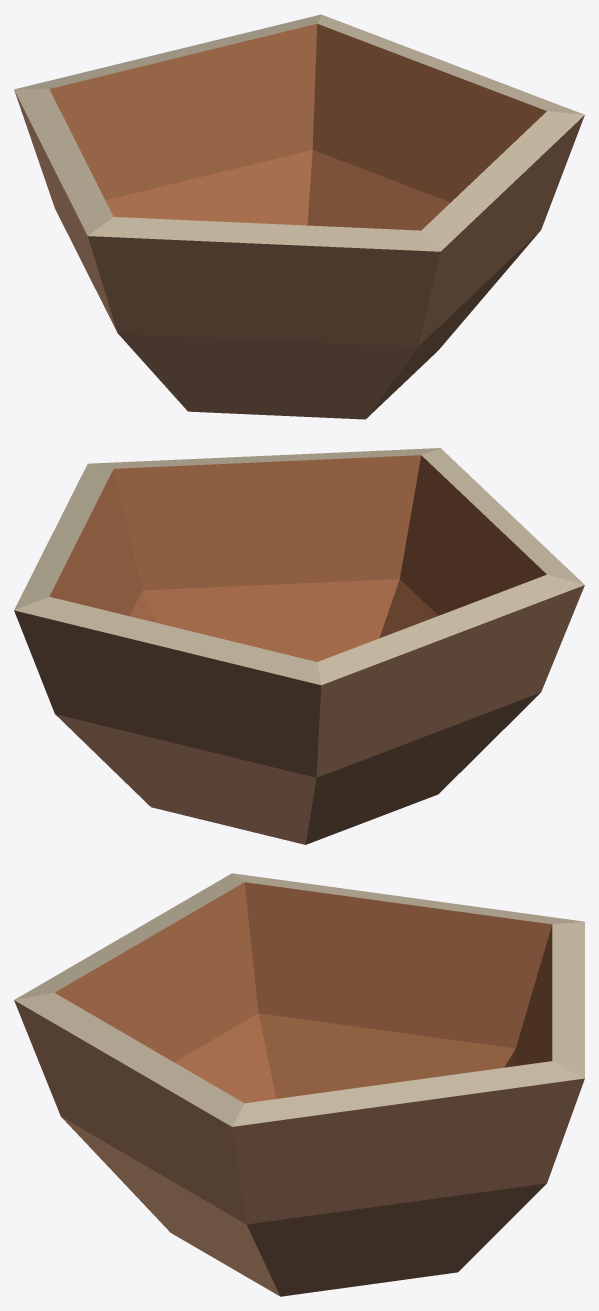
The model's file is TB_Prop_Basket_D.FBX.
3 views of the same model, one above another, from view 1: azimuth 30°, elevation 25°; view 2: azimuth 150°, elevation 25°; view 3: azimuth 270°, elevation 25° (orthographic). The views are drawn at different scales.
Visible parts, largest first — view 1: TB_Prop_Basket_D; view 2: TB_Prop_Basket_D; view 3: TB_Prop_Basket_D.
Boxes of the visible parts, x1,y1,x2,y2 form: TB_Prop_Basket_D: [14, 14, 584, 419]; TB_Prop_Basket_D: [14, 448, 584, 844]; TB_Prop_Basket_D: [14, 873, 584, 1296].
Bounding box in the file's own units: 1.06 × 0.467 × 1.01.
